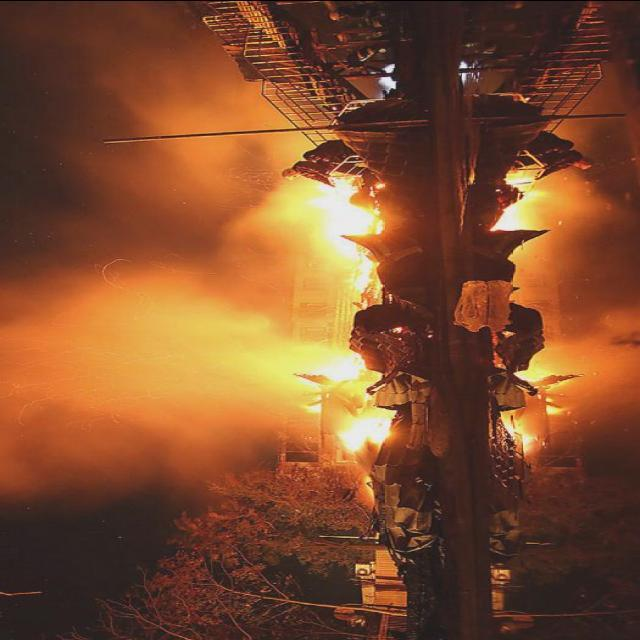Fire: (304, 168, 380, 298), (302, 348, 366, 406), (336, 408, 392, 461), (354, 474, 380, 506)
